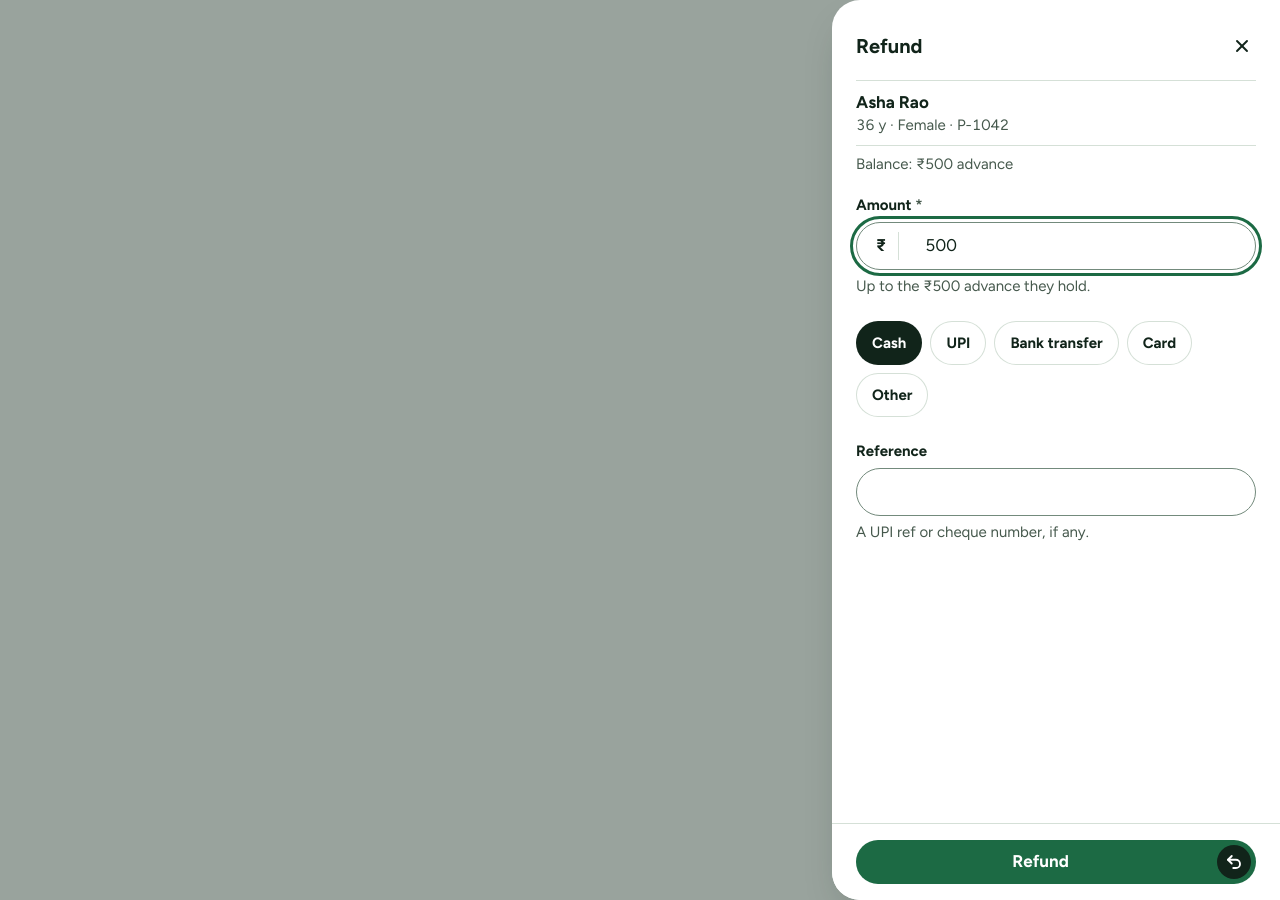
it: RecordPaymentSheet (plan §15.3; D323, D324, D334) › refunds the advance held: the amount, the method and a reference, no day and no note (D322)
This screenshot has width=1280, height=900.
Expected: the text "Balance: ₹500 advance" is shown, [856,155,1013,173]
Expected: the field labelled "Amount *" holds "500", [856,222,1256,270]
Click the button "Refund".
click(1056, 862)  # box [856,840,1256,884]
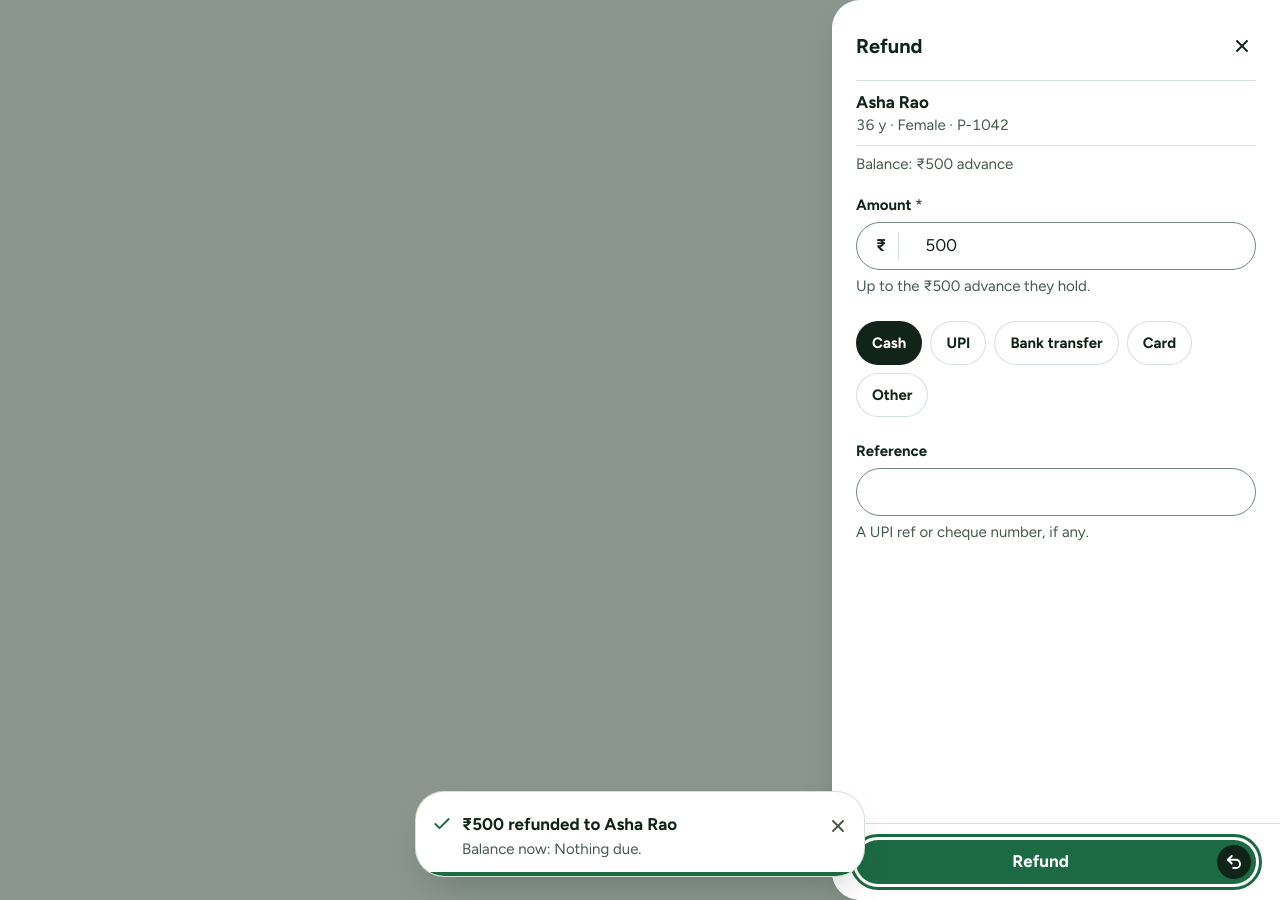
Expected: the text "₹500 refunded to Asha Rao" is shown, [462,814,677,834]
